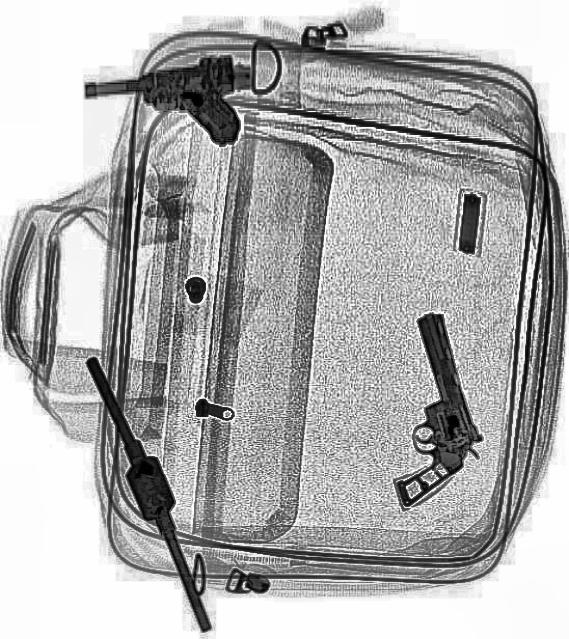Gun: (353, 308, 494, 509), (79, 52, 241, 160)
